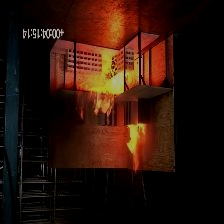fire: (87, 51, 138, 115), (117, 110, 146, 174)
